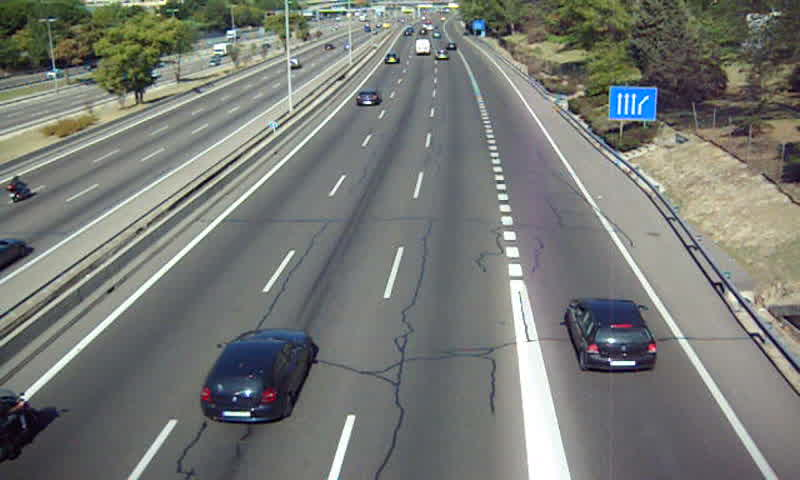car: (200, 332, 314, 423), (569, 298, 655, 372), (355, 90, 381, 107)
